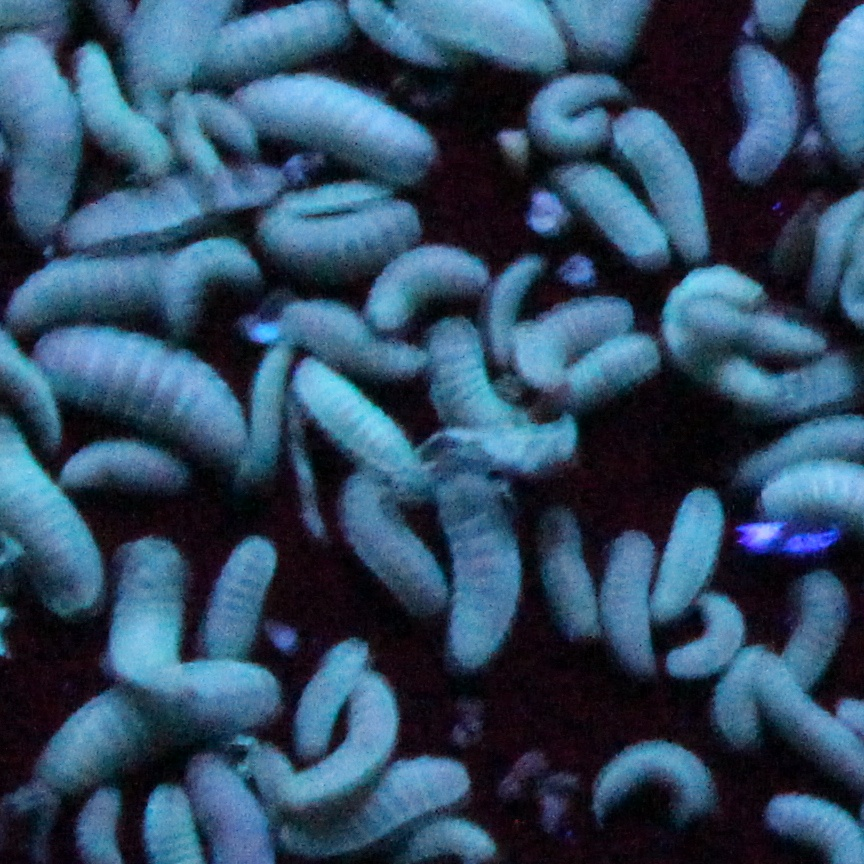larve: (30, 655, 283, 800), (30, 311, 246, 466), (232, 70, 448, 182), (430, 440, 534, 666), (274, 748, 474, 855), (336, 464, 445, 620), (257, 182, 421, 282), (259, 284, 436, 375), (659, 255, 772, 397), (581, 733, 741, 833), (65, 171, 276, 244), (101, 535, 196, 697), (288, 666, 399, 804), (421, 320, 541, 442), (75, 40, 177, 180), (546, 157, 670, 270), (614, 111, 712, 253), (292, 359, 406, 464), (14, 250, 183, 319), (595, 528, 666, 679), (648, 484, 723, 617), (55, 433, 199, 499), (206, 530, 281, 655), (519, 293, 626, 380), (372, 242, 485, 322), (770, 570, 846, 686), (534, 506, 599, 637), (530, 68, 626, 148), (694, 300, 832, 355), (236, 348, 288, 493), (168, 235, 250, 324), (734, 42, 786, 179), (301, 640, 361, 753), (485, 257, 546, 362), (557, 335, 654, 399), (677, 593, 743, 675), (388, 820, 506, 862), (172, 90, 219, 175), (196, 91, 256, 148)
